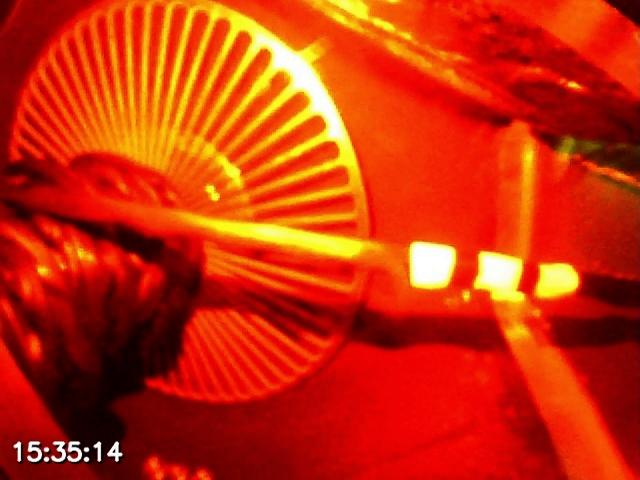white-dots: (408, 241, 579, 301)
